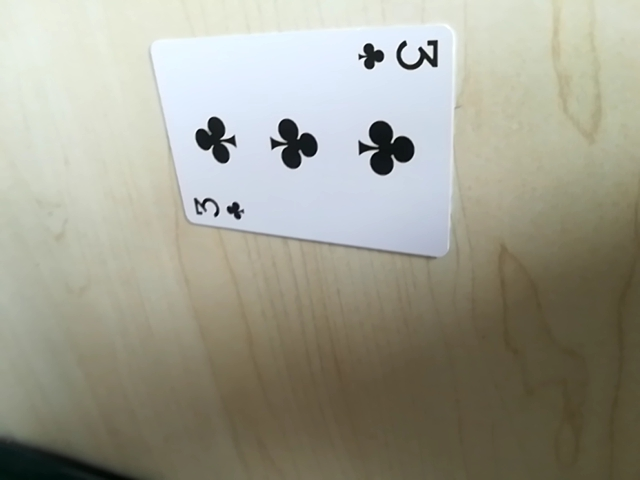mh 3: (355, 31, 442, 77), (188, 192, 249, 227)
